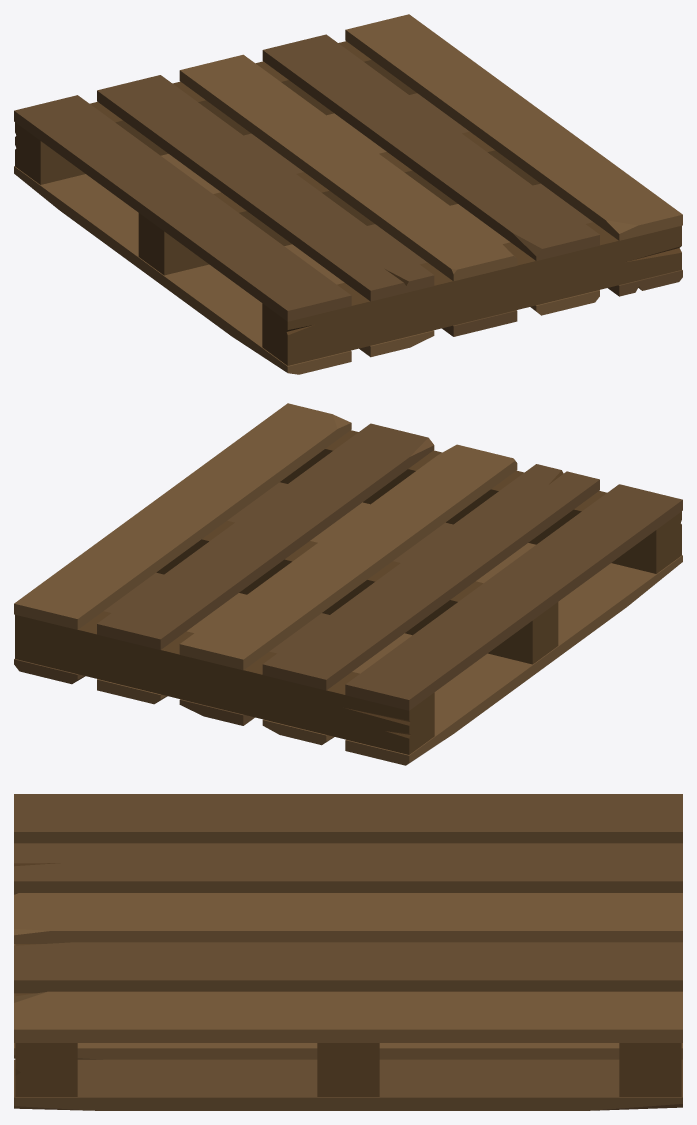
The model's file is SM_Pallet_02.glb.
3 views of the same model, one above another, from view 1: azimuth 30°, elevation 25°; view 2: azimuth 150°, elevation 25°; view 3: azimuth 270°, elevation 25° (orthographic). The views are drawn at different scales.
Visible parts, largest first — view 1: SM_Pallet_02; view 2: SM_Pallet_02; view 3: SM_Pallet_02.
Part boxes in pixels (left/top/right/bottom): SM_Pallet_02: left=14, top=14, right=682, bottom=374; SM_Pallet_02: left=14, top=403, right=682, bottom=765; SM_Pallet_02: left=14, top=794, right=682, bottom=1110.
Size of the model in its own units: 1.25 by 0.2009 by 1.5.
1 material, 1 textured.
